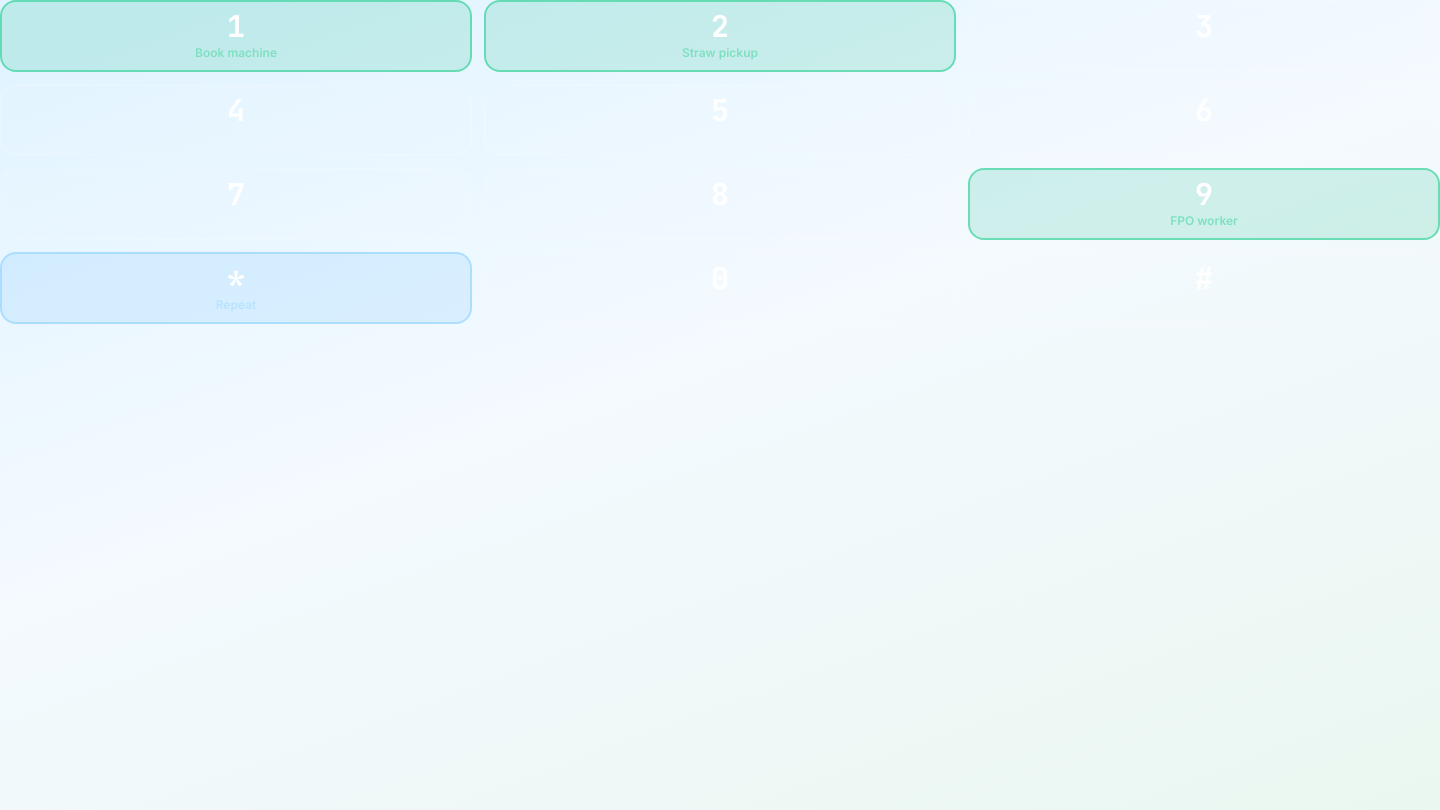
Scenario: KeypadPanel flow › 1 asks which machine, 1 picks the Super Seeder, and nothing is booked until 1 confirms
Click the button with aria-label "Press 1: Book a machine" at (236, 36), box [0,0,472,72]
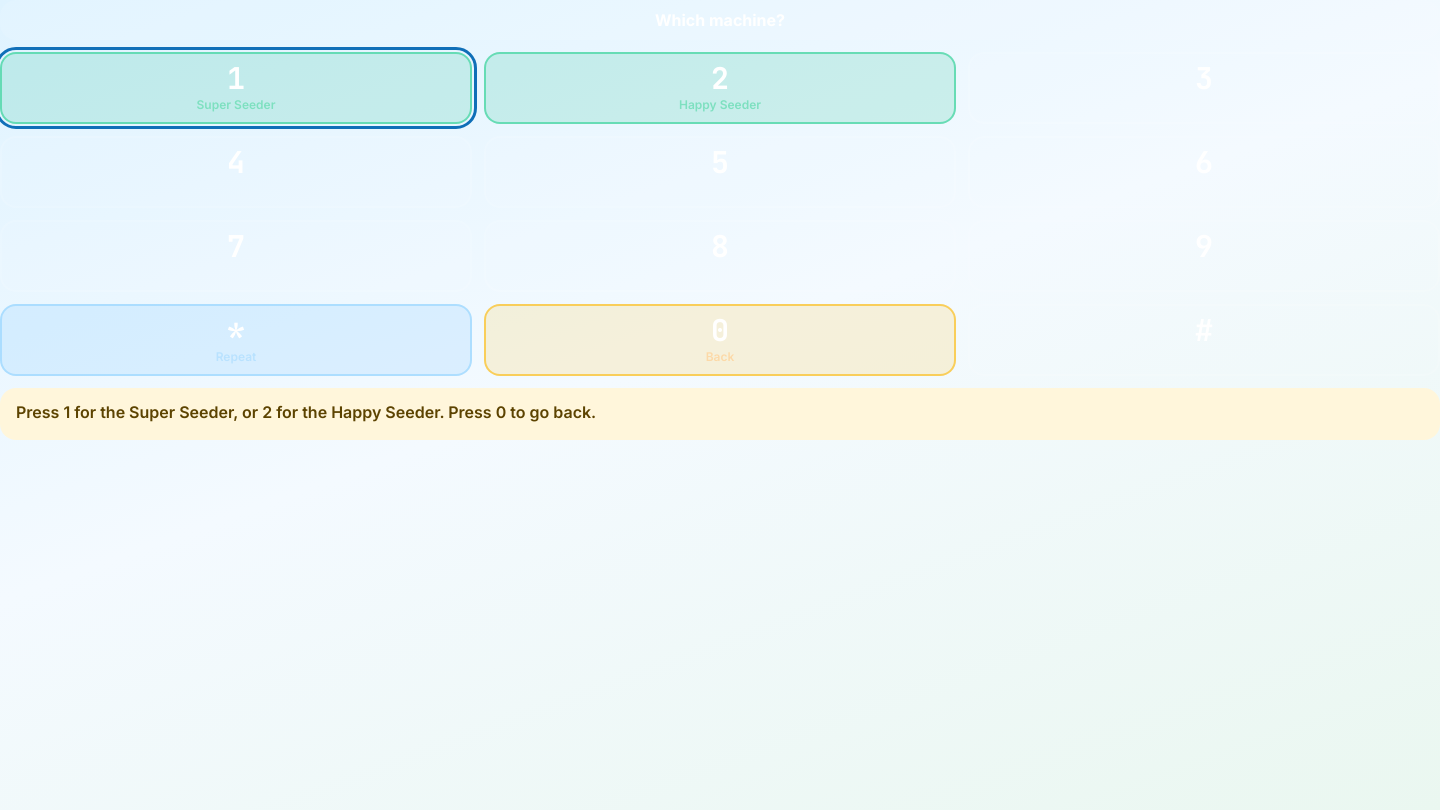
Now the message with test id "keypad-status" shows "Press 1 for the Super Seeder, or 2 for the Happy Seeder", box [16,402,596,422]
Click the button with aria-label "Press 1: Super Seeder, ₹750 per acre" at (236, 88), box [0,52,472,124]
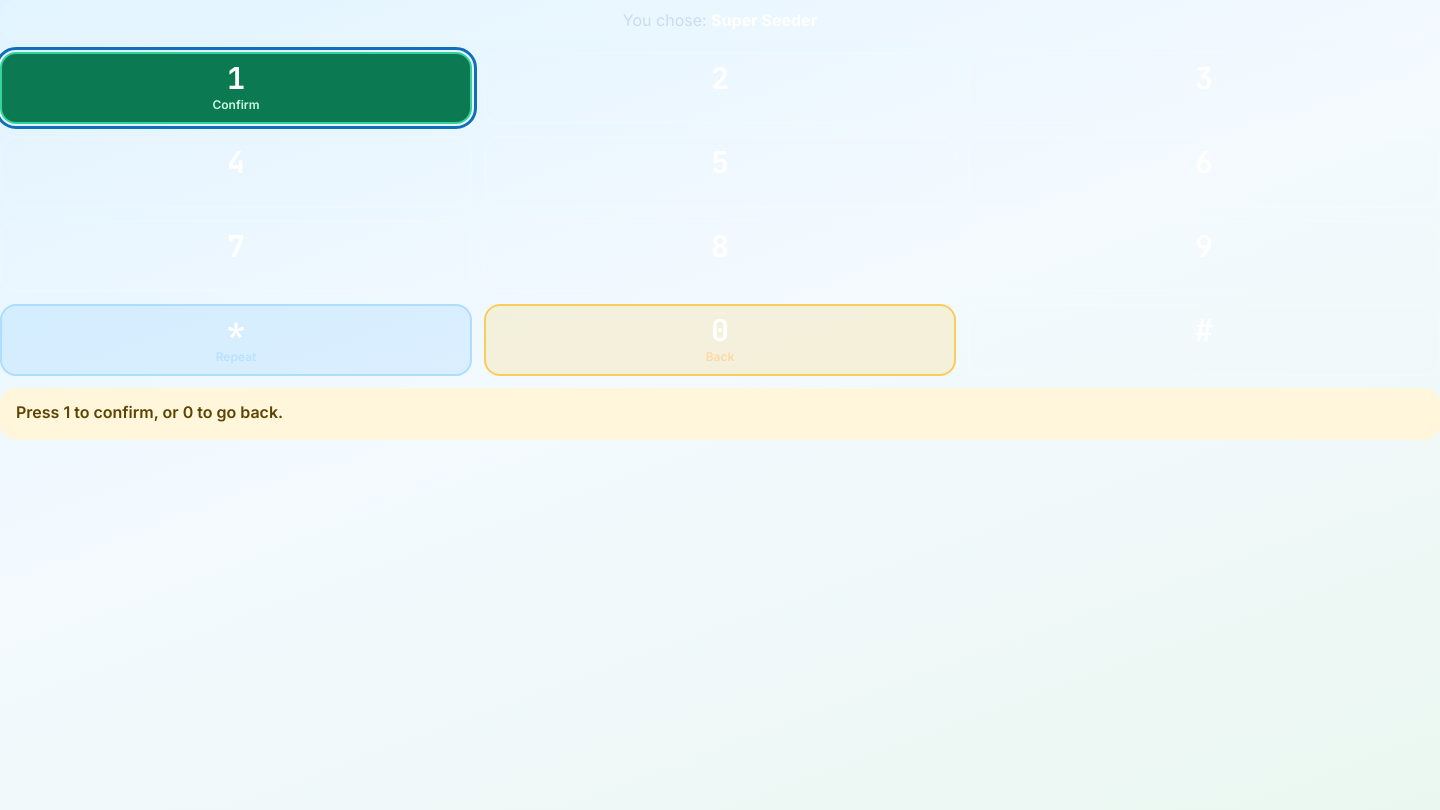
Now the element with test id "confirm-step" reads "You chose: Super Seeder", box [0,0,1439,40]
Now the message with test id "keypad-status" reads "Press 1 to confirm, or 0 to go back.", box [16,402,283,422]
Click the button with aria-label "Press 1: Yes, confirm, Super Seeder" at (236, 88), box [0,52,472,124]
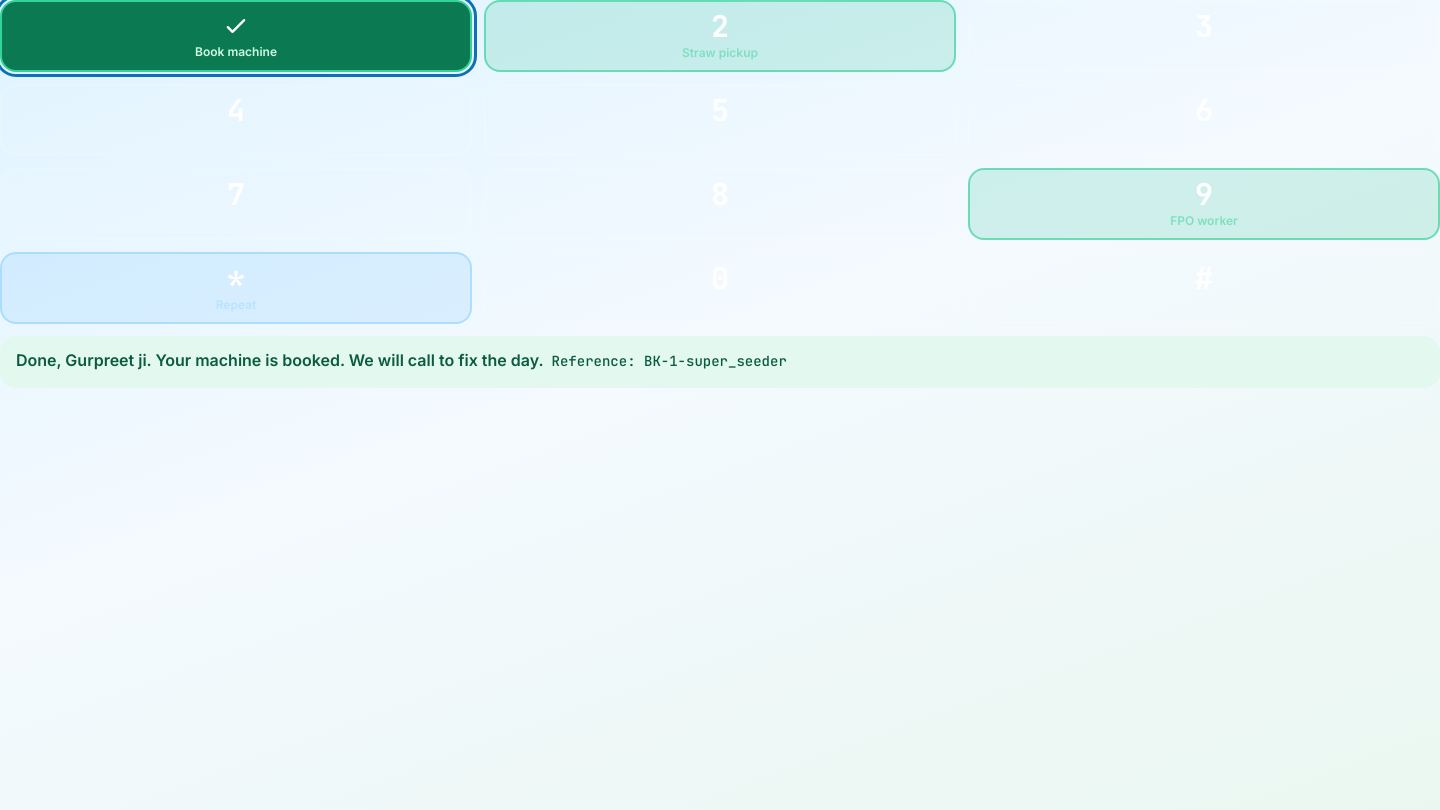
Now the message with test id "keypad-status" shows "Your machine is booked", box [16,350,544,370]
Now the message with test id "keypad-status" shows "BK-1-super_seeder", box [644,352,787,370]
